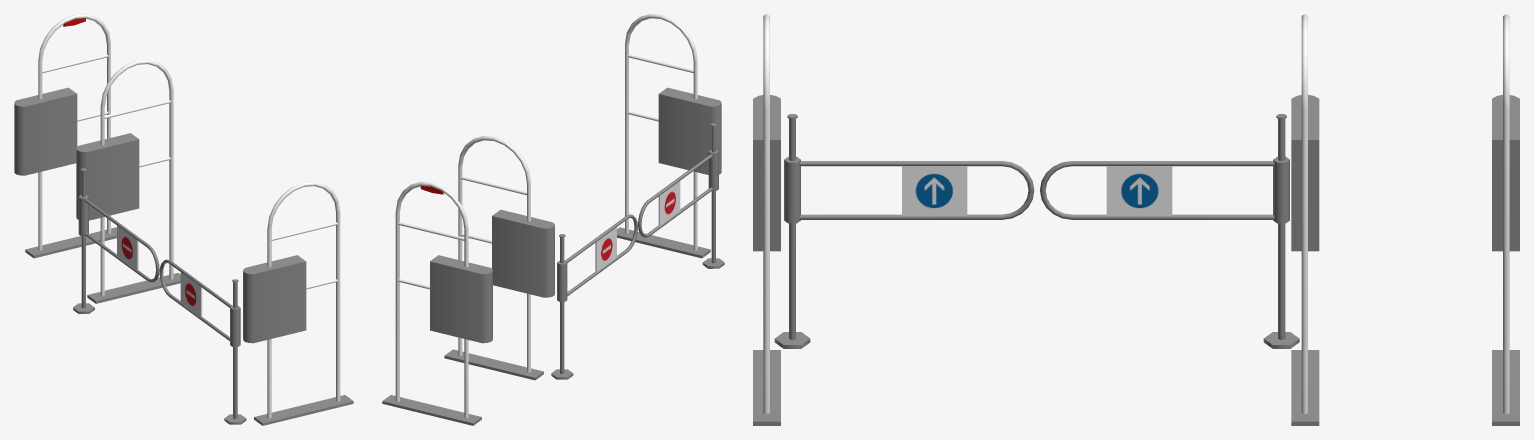
File: alarm_Entrance.FBX
The picture shows the model from 3 angles, left to right: view 1: azimuth 30°, elevation 25°; view 2: azimuth 150°, elevation 25°; view 3: azimuth 270°, elevation 25°; orthographic projection. The views are drawn at different scales.
Visible parts, largest first — view 1: alarm_Entrance, alarm_Entrance_door_L, alarm_Entrance_door_R, alarm_door; view 2: alarm_Entrance, alarm_Entrance_door_L, alarm_Entrance_door_R, alarm_door; view 3: alarm_Entrance, alarm_Entrance_door_R, alarm_Entrance_door_L, alarm_door.
Part boxes in pixels (box(x1,y1,x2,y2)): alarm_Entrance: box(14, 14, 353, 425); alarm_Entrance_door_L: box(159, 259, 240, 347); alarm_Entrance_door_R: box(78, 194, 159, 282); alarm_door: box(73, 168, 246, 424); alarm_Entrance: box(382, 14, 721, 425); alarm_Entrance_door_L: box(638, 149, 718, 237); alarm_Entrance_door_R: box(557, 214, 637, 301); alarm_door: box(551, 123, 724, 379); alarm_Entrance: box(753, 14, 1519, 425); alarm_Entrance_door_R: box(1040, 156, 1289, 223); alarm_Entrance_door_L: box(784, 156, 1034, 223); alarm_door: box(774, 114, 1299, 348).
Bounding box in the file's own units: 0.8916 × 1.71 × 3.21.
